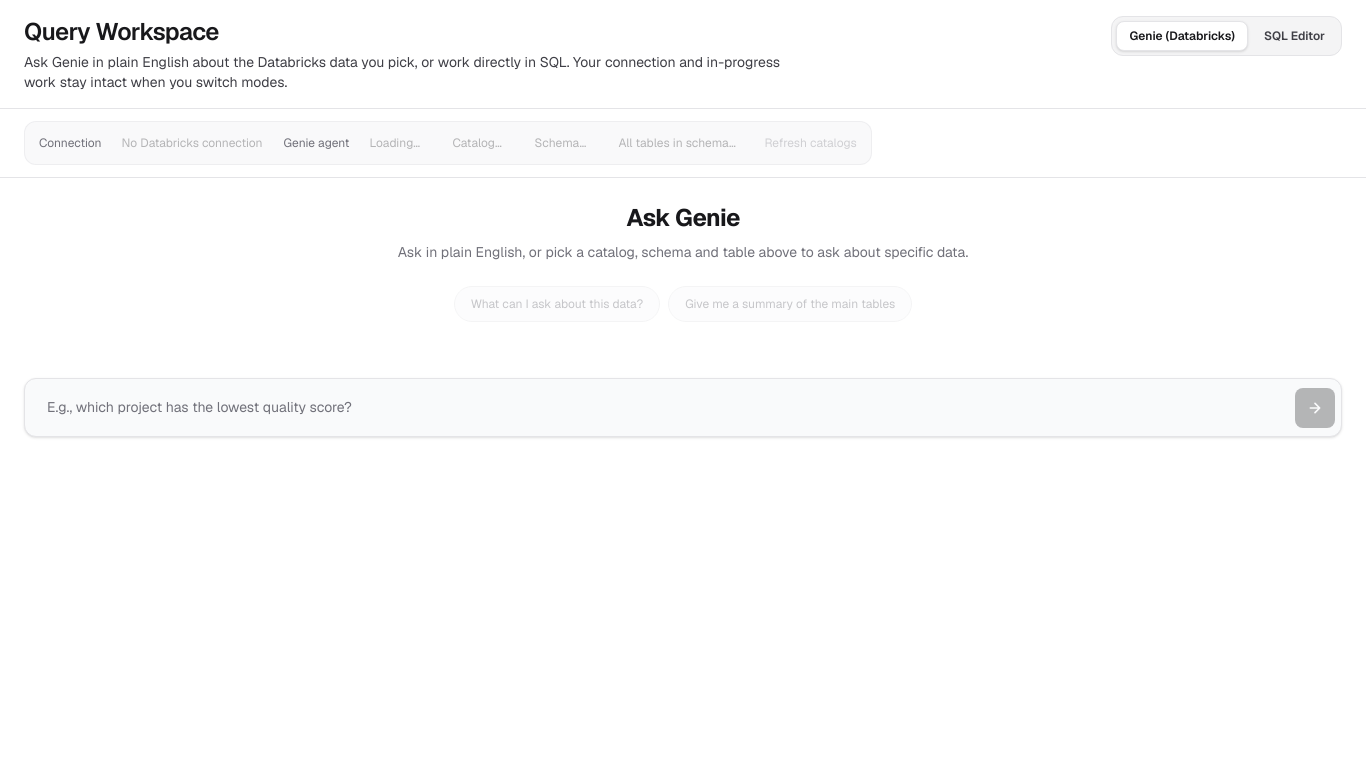
Scenario: QueryWorkspaceInner › preserves a SQL draft across a mode switch instead of remounting
The image size is (1366, 768).
Click the button "SQL Editor": x=1294, y=36 [1252,21,1337,51]
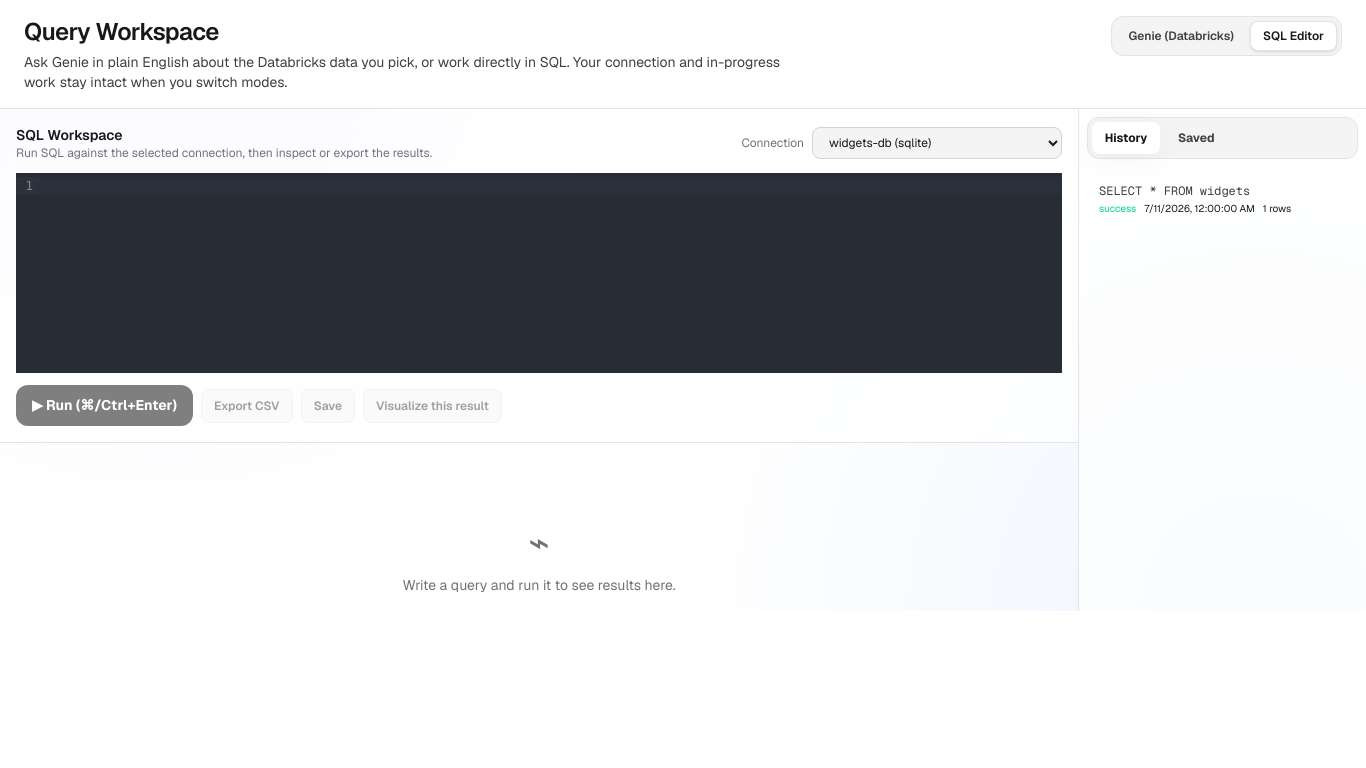
Expected: the text "SELECT * FROM widgets" is shown
Click the text "SELECT * FROM widgets": x=1175, y=191 [1099,183,1250,199]
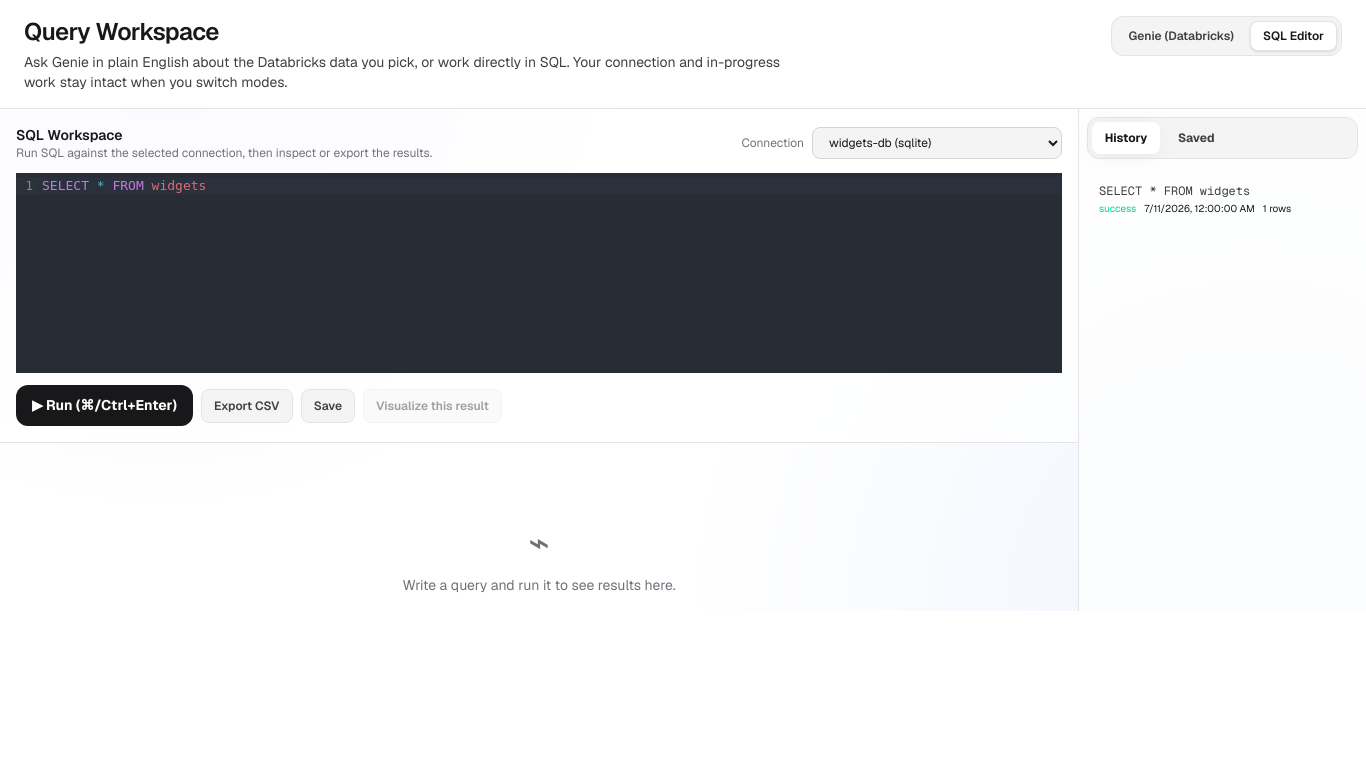
Expected: the field with class "cm-content" reads "SELECT * FROM widgets", [36,177,1062,195]
Click the button "Genie (Databricks)": x=1181, y=36 [1116,21,1246,51]
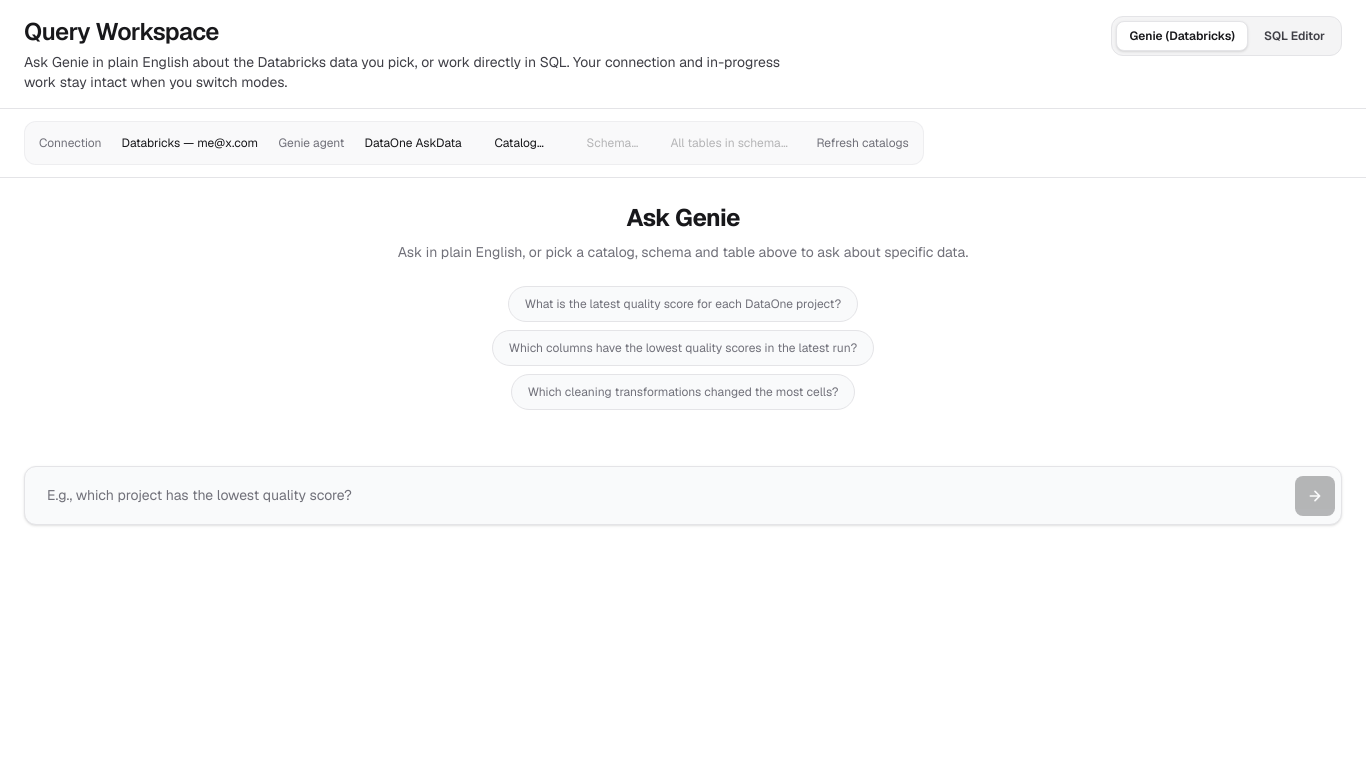
Click the button "SQL Editor": x=1294, y=36 [1252,21,1337,51]
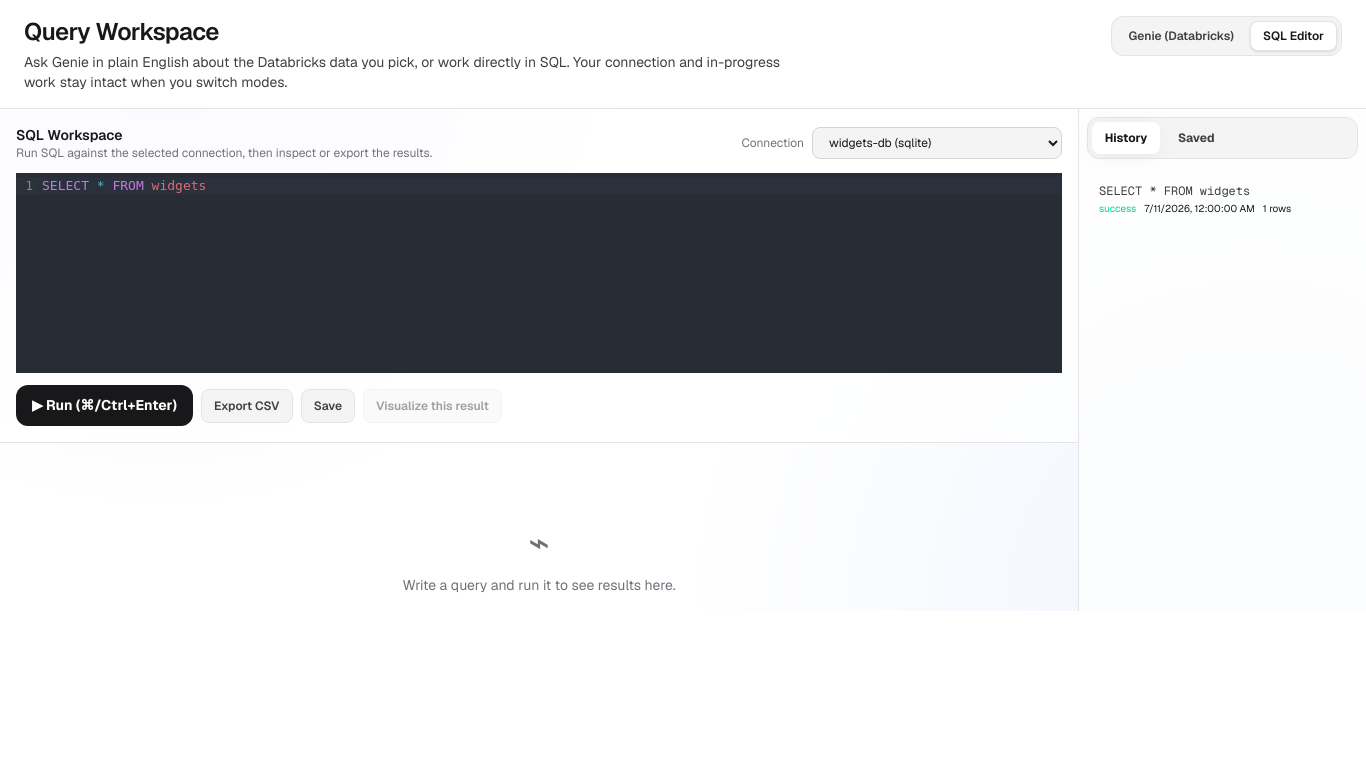
Expected: the field with class "cm-content" reads "SELECT * FROM widgets", [36,177,1062,195]
